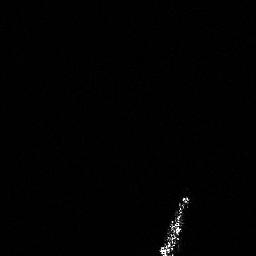ship: (154, 189, 194, 256)
